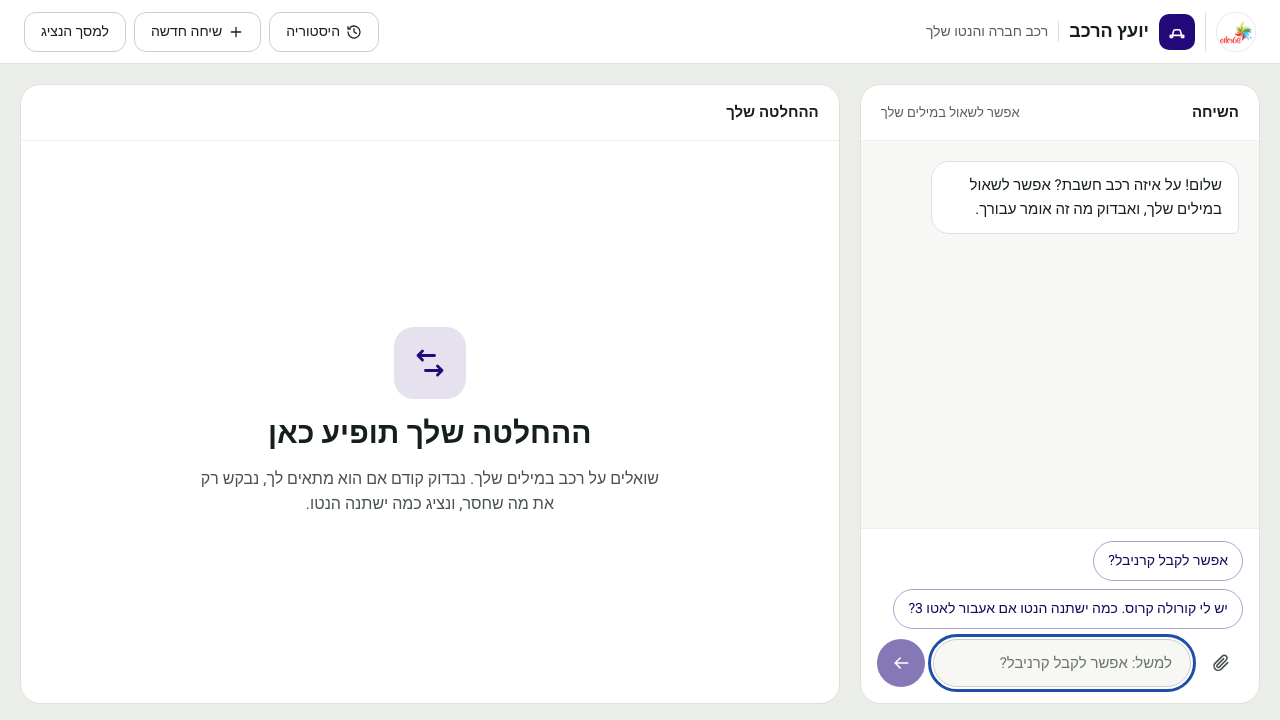
Test: history persistence › opening a past conversation needs no network request to show it
Type "שאלה ראשונה" into the field named "הודעה ליועץ" at (1062, 663), box [933,639,1191,687]
Then press Enter
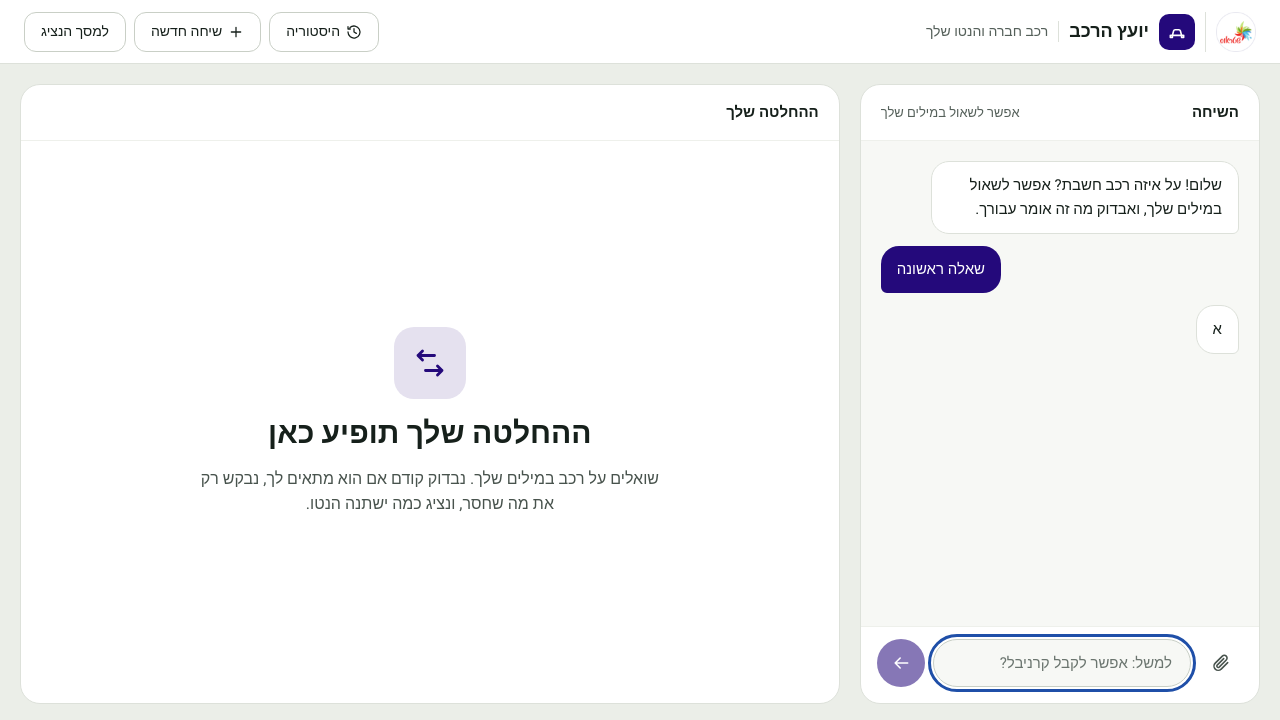
Expected: the text "א" is shown, [1213,318,1222,340]
Click the button "שיחה חדשה" at (198, 32), box [134,12,261,52]
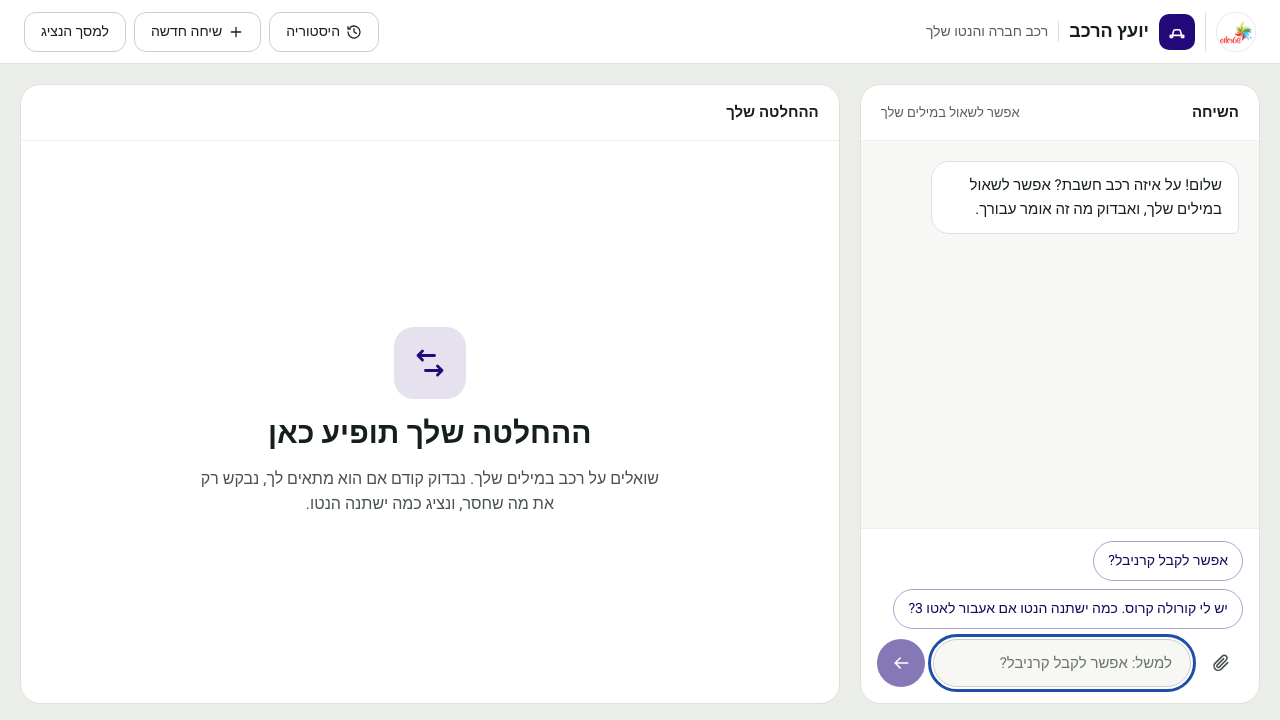
Type "שאלה שנייה" into the field named "הודעה ליועץ" at (1062, 663), box [933,639,1191,687]
Then press Enter
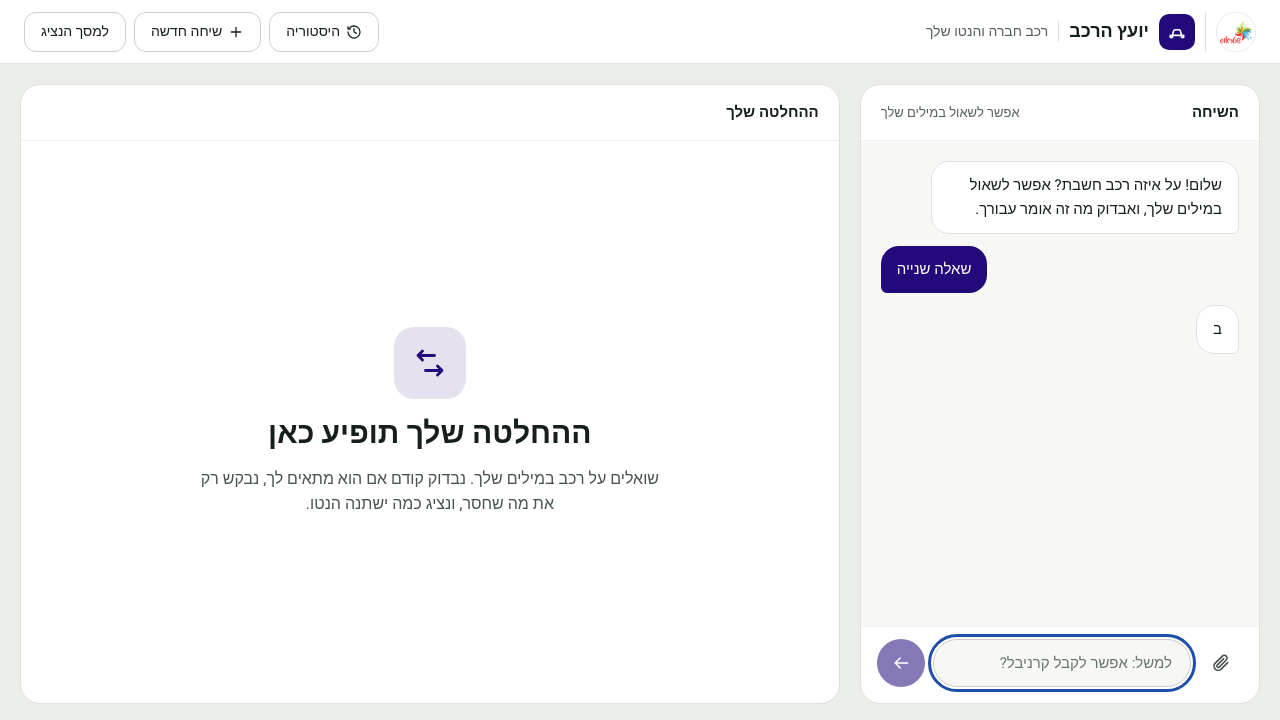
Expected: the text "ב" is shown, [1213,318,1222,340]
Click the button "היסטוריה" at (324, 32), box [269,12,379,52]
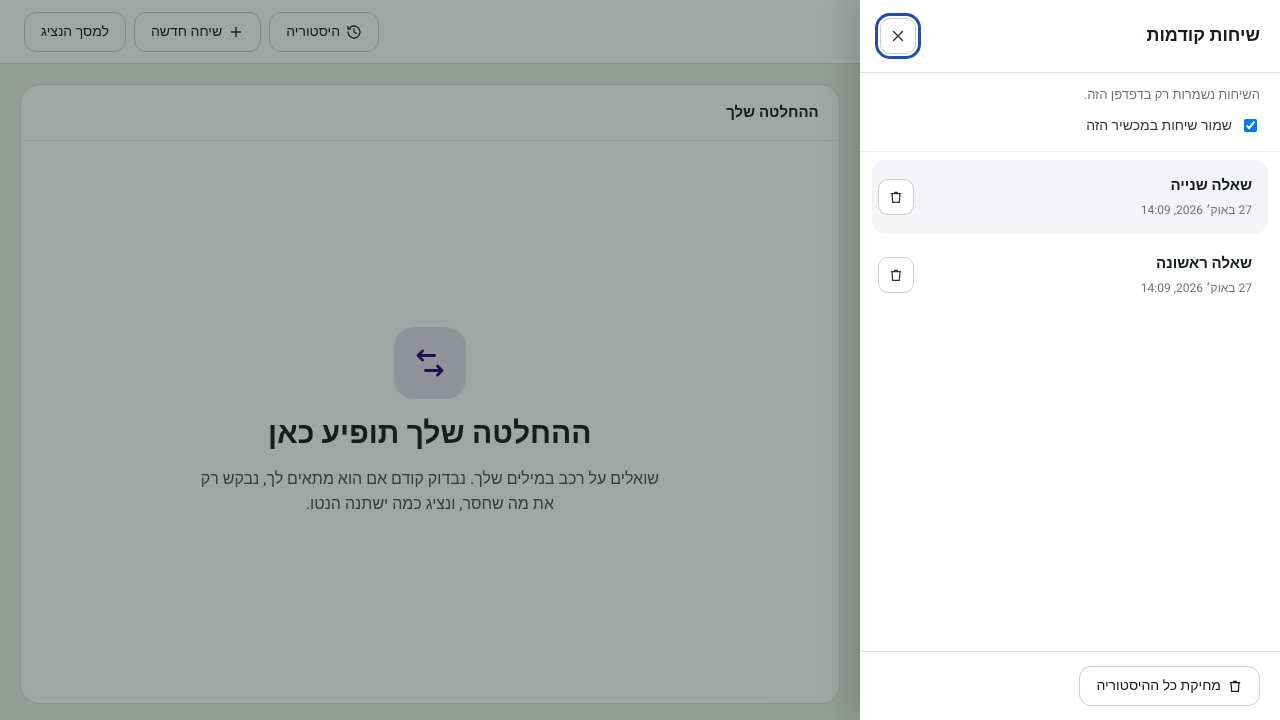
Click the text "שאלה ראשונה" at (1204, 263), box [1156,252,1252,275]
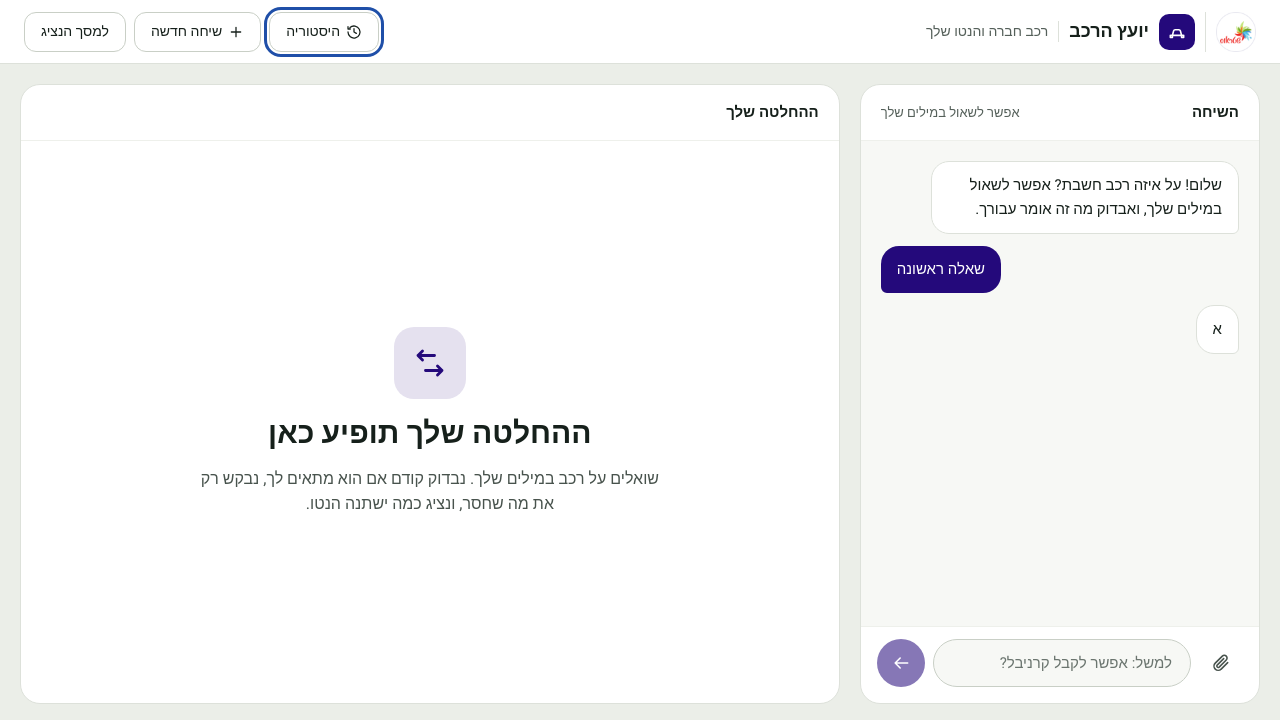
Expected: the text "א" is shown, [1213,318,1222,340]
